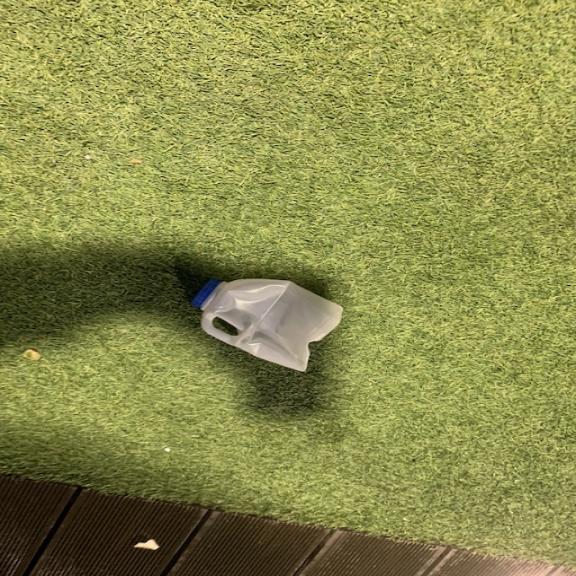Plastik: (192, 276, 349, 373)
